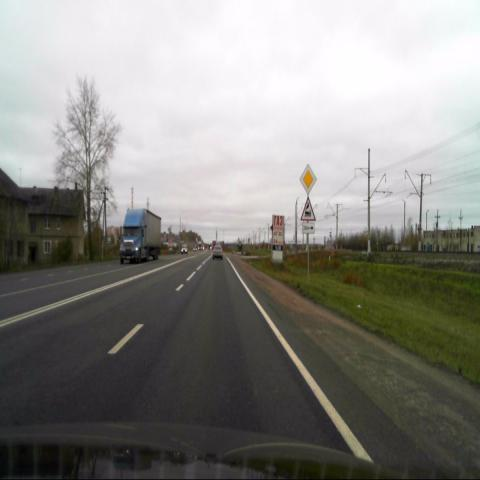1_2: (300, 197, 316, 221)
